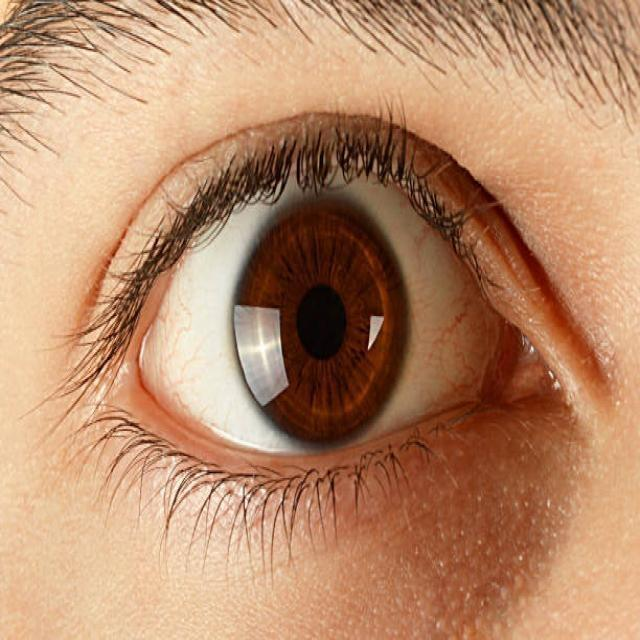Normal: (0, 0, 639, 637)
